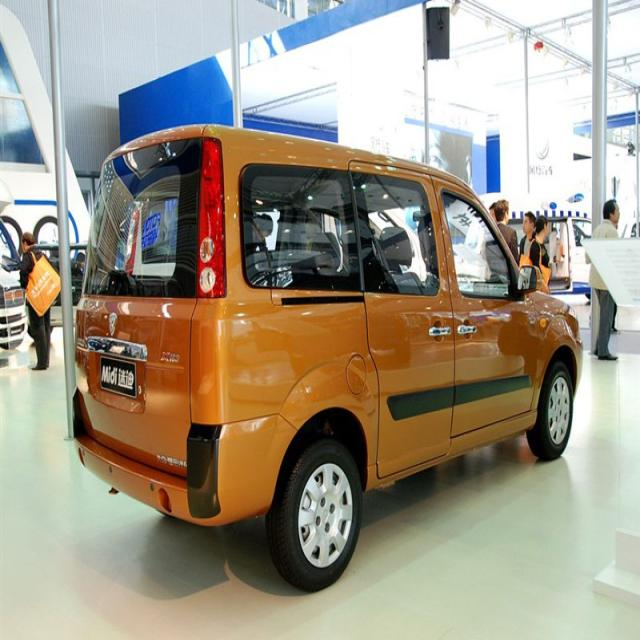back_glass: (82, 133, 202, 303)
back_right_side_light: (196, 133, 230, 309)
door: (348, 161, 458, 459)
front_right_side_door: (431, 169, 538, 444)
front_right_side_mirror: (516, 263, 542, 300)
rear_bumper: (70, 385, 300, 529)
wheel: (277, 436, 362, 589), (534, 353, 578, 455)
